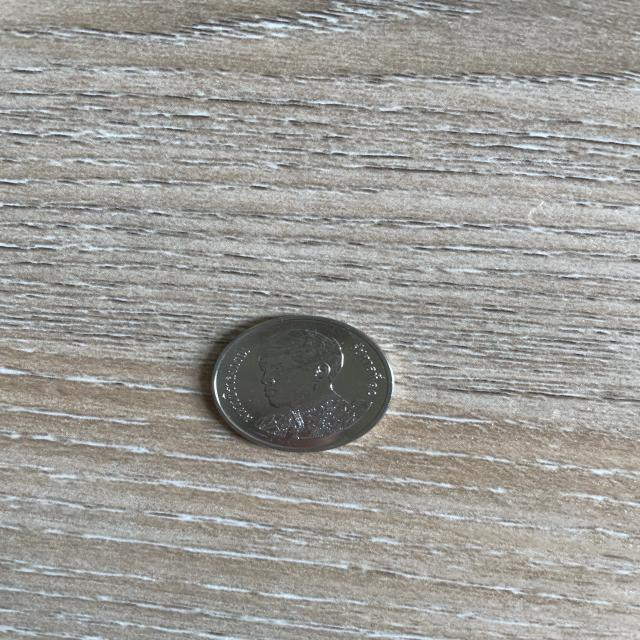1 Bath: (207, 308, 398, 458)
